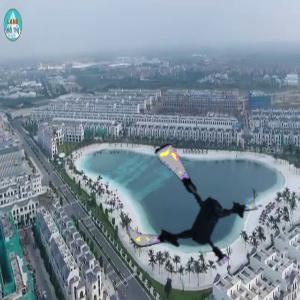drone: (123, 143, 255, 275)
